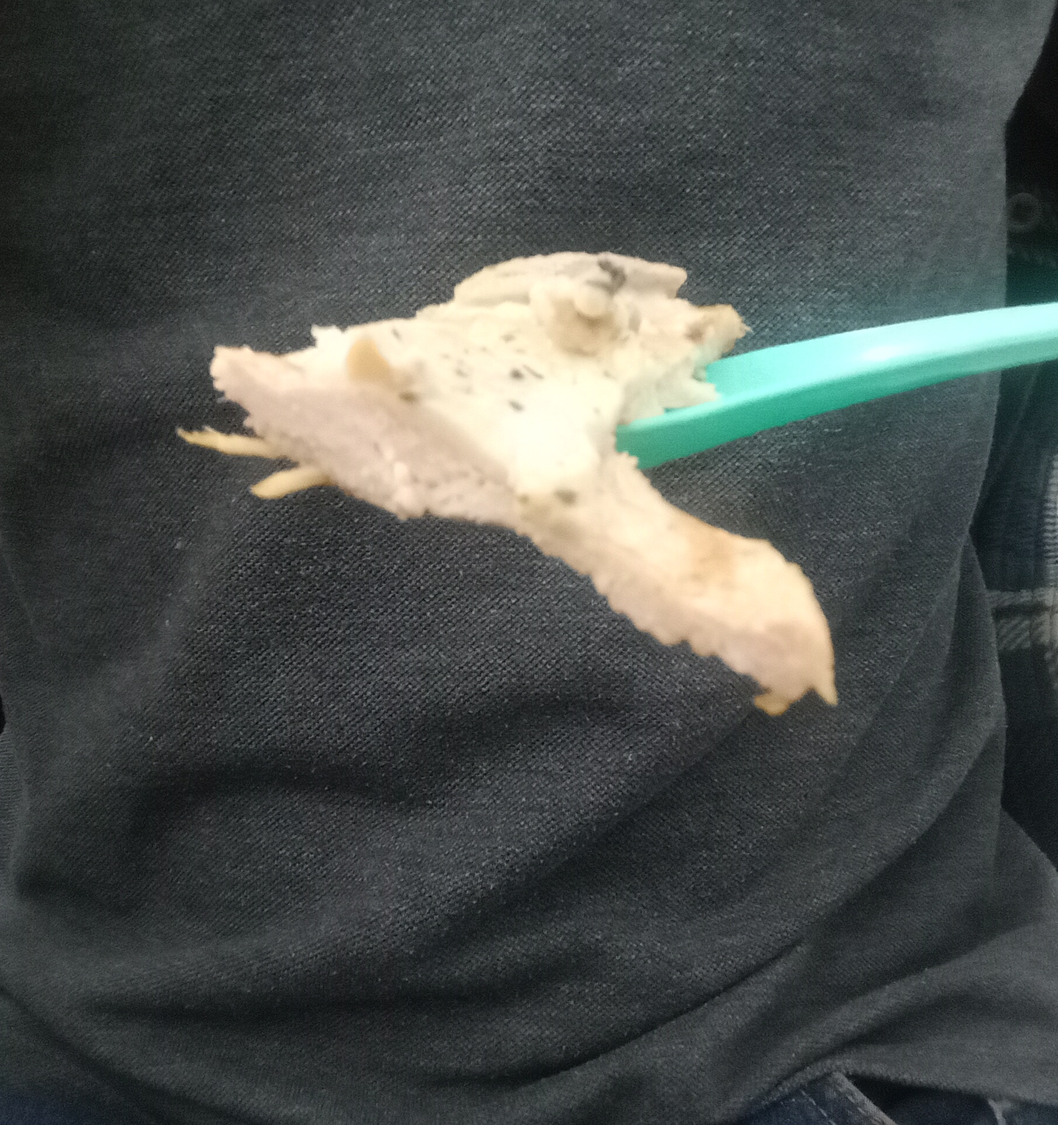Organico: (177, 253, 838, 715)
